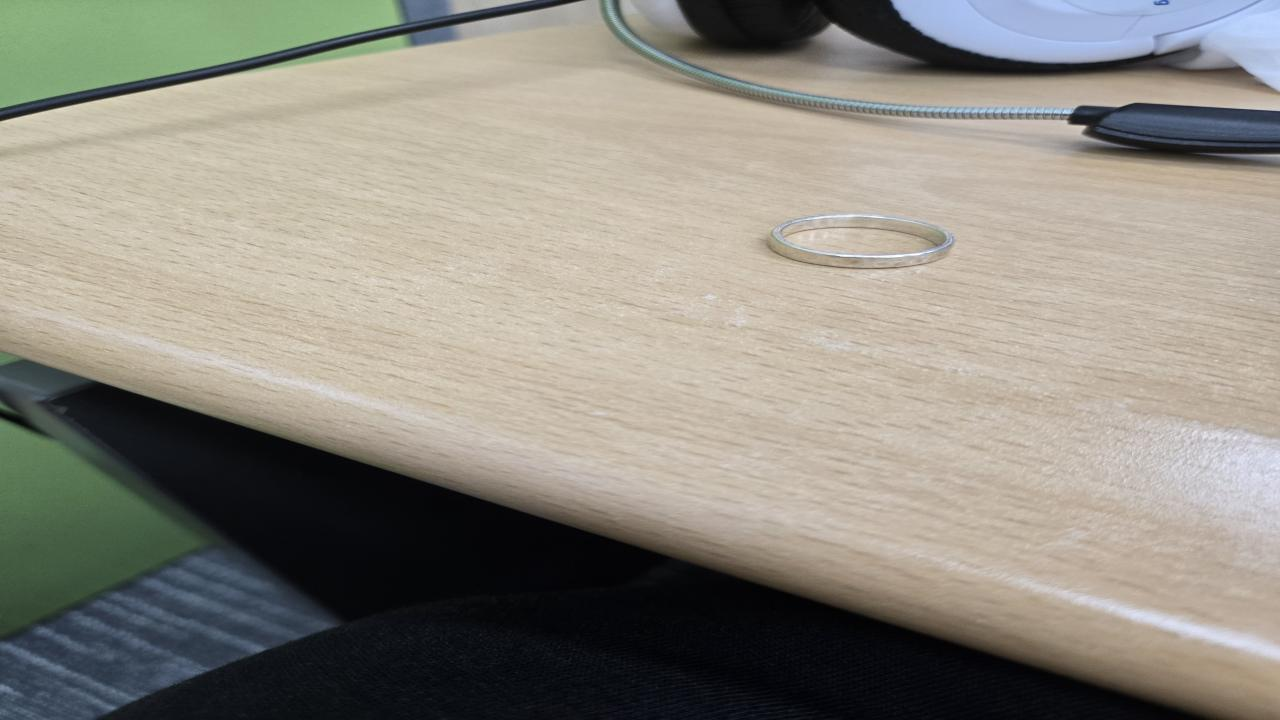ring: (765, 214, 953, 272)
